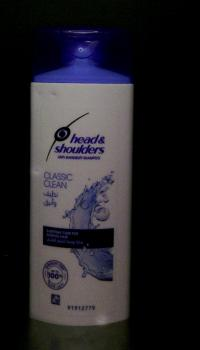dent_marginal: (30, 80, 62, 102), (30, 157, 50, 179), (87, 314, 114, 325)
